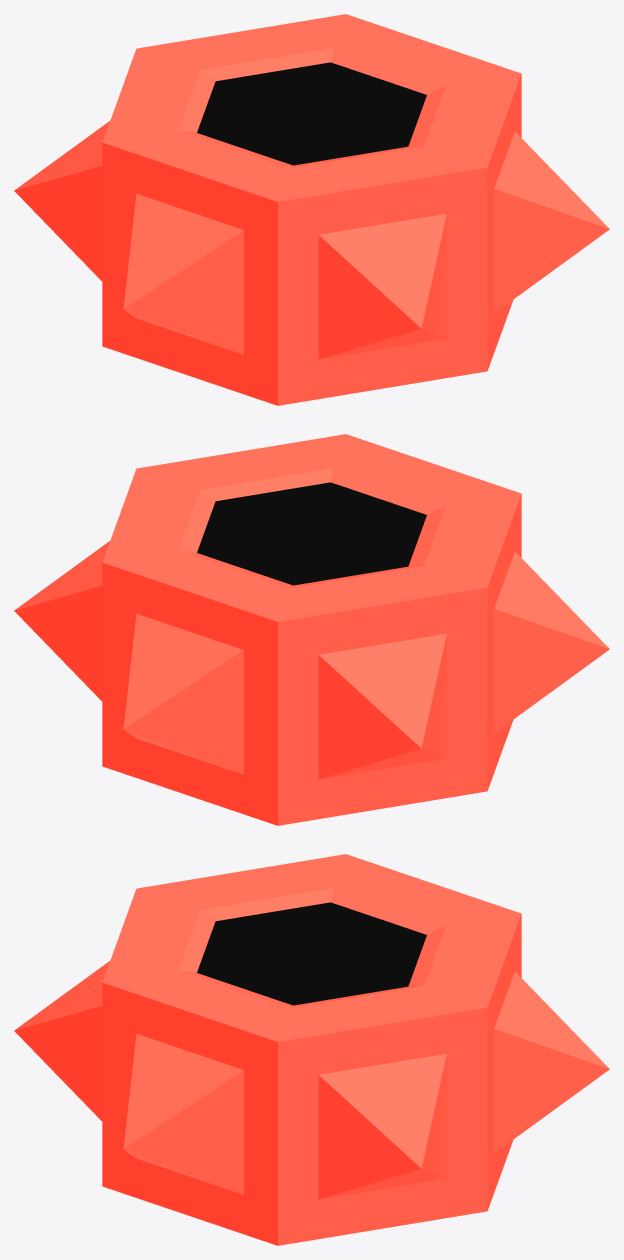
File: DeathBlock.fbx
The picture shows the model from 3 angles, top to bottom: view 1: azimuth 30°, elevation 25°; view 2: azimuth 150°, elevation 25°; view 3: azimuth 270°, elevation 25°; orthographic projection.
Visible parts, largest first — view 1: Cylinder.006; view 2: Cylinder.006; view 3: Cylinder.006.
Boxes of the visible parts, left/top/right/bottom form: Cylinder.006: left=14, top=14, right=609, bottom=405; Cylinder.006: left=14, top=434, right=609, bottom=825; Cylinder.006: left=14, top=854, right=609, bottom=1245.
Size of the model in its own units: 250 by 100 by 265.
